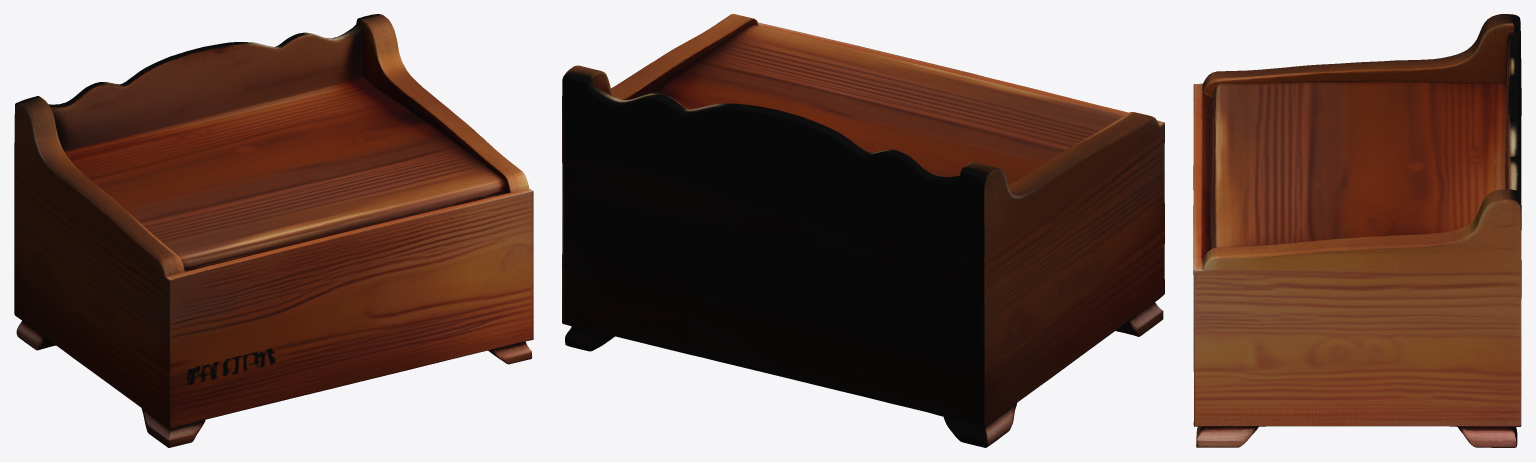
Rendered from wooden-bread-box-3d.jpeg.glb.
3 views of the same model, side by side, from view 1: azimuth 30°, elevation 25°; view 2: azimuth 150°, elevation 25°; view 3: azimuth 270°, elevation 25° (orthographic). The views are drawn at different scales.
Visible parts, largest first — view 1: world; view 2: world; view 3: world.
Boxes of the visible parts, x1,y1,x2,y2 form: world: (14,14,533,447); world: (562,14,1164,447); world: (1193,14,1521,447).
Size of the model in its own units: 1 by 0.6435 by 0.7417.
Materials: 1 (1 with a texture image).
